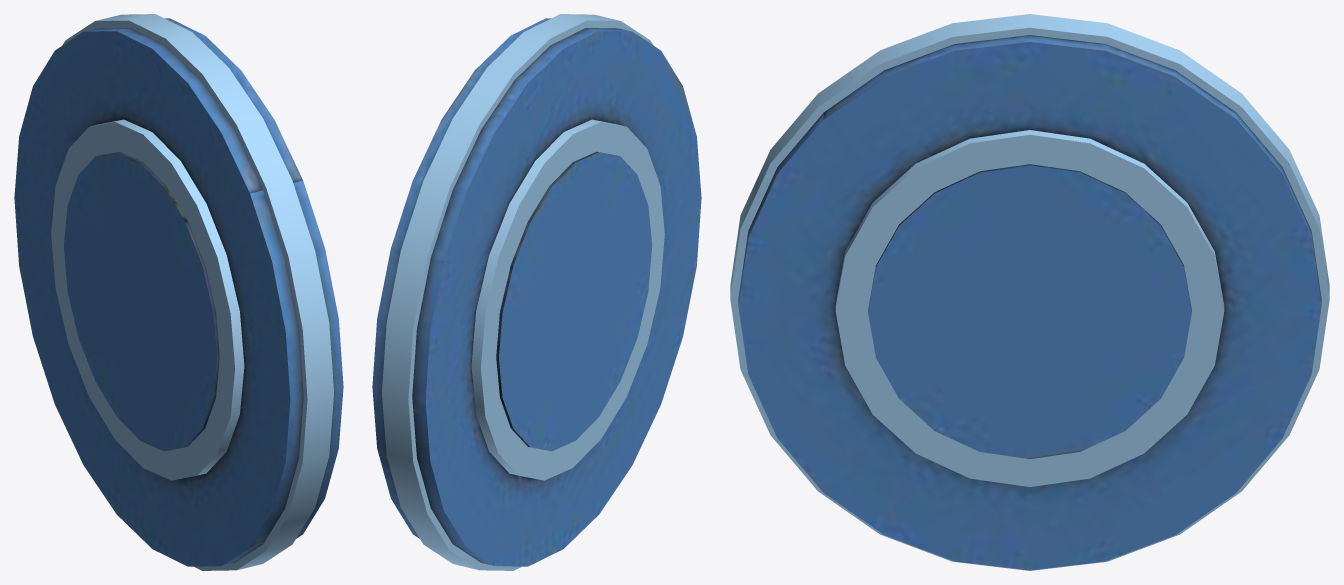
Rendered from token.glb.
The picture shows the model from 3 angles, left to right: view 1: azimuth 30°, elevation 25°; view 2: azimuth 150°, elevation 25°; view 3: azimuth 270°, elevation 25°; orthographic projection. The views are drawn at different scales.
Parts seen in each view (by area): view 1: coin, rim, ring-1; view 2: coin, rim, ring-1; view 3: coin, ring1, rim.
Boxes of the visible parts, left/top/right/bottom form: coin: left=14, top=18, right=343, bottom=566; rim: left=62, top=14, right=333, bottom=570; ring-1: left=51, top=119, right=244, bottom=480; coin: left=372, top=18, right=701, bottom=566; rim: left=382, top=14, right=653, bottom=570; ring-1: left=471, top=119, right=664, bottom=480; coin: left=738, top=35, right=1321, bottom=570; ring1: left=835, top=130, right=1224, bottom=486; rim: left=730, top=14, right=1329, bottom=570.
Size of the model in its own units: 0.058 by 0.37 by 0.37.
Materials: 2 (1 with a texture image).
